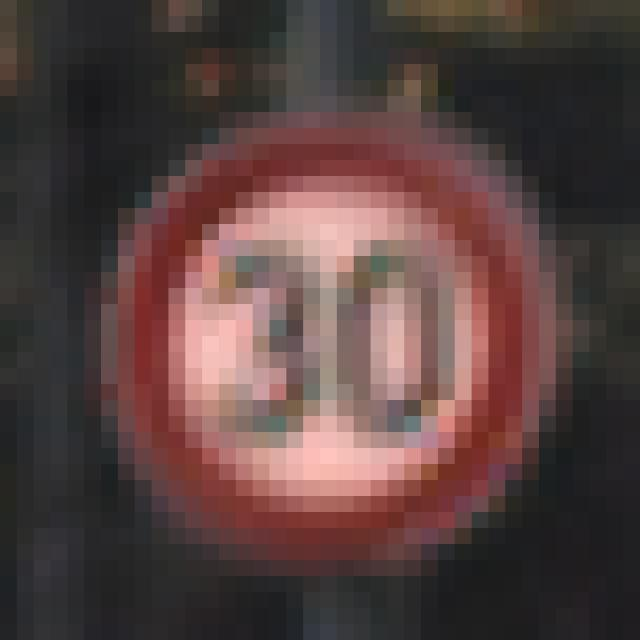Speed Limit -30-: (75, 72, 548, 536)
